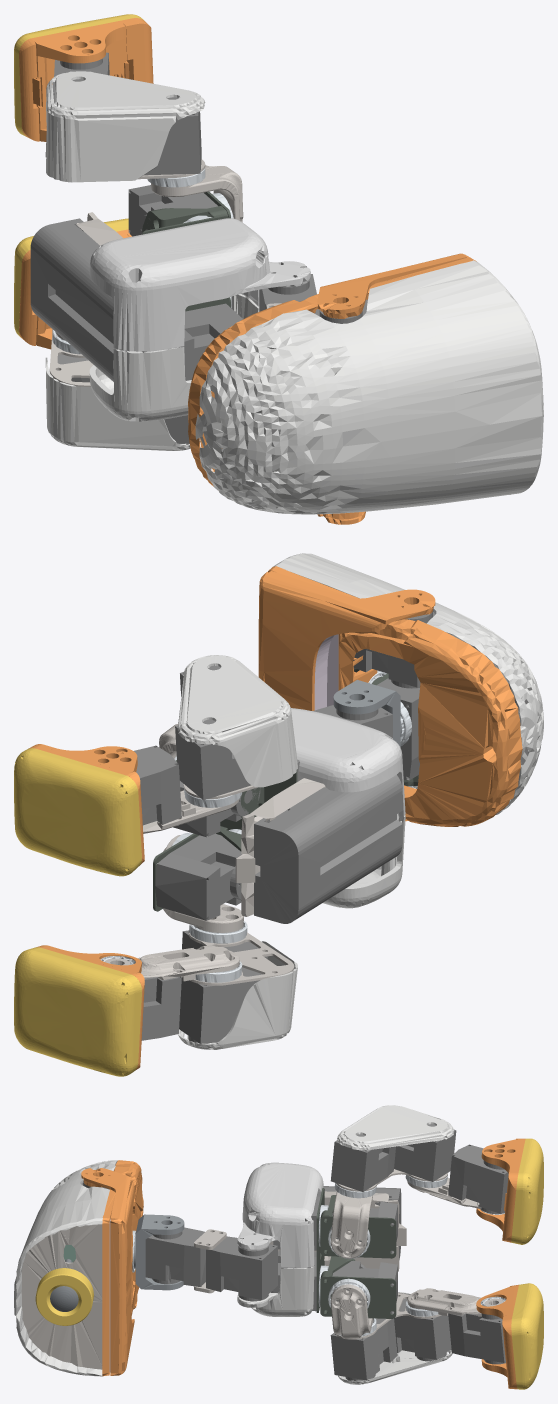
3 renders of one model, top to bottom at view 1: azimuth 30°, elevation 25°; view 2: azimuth 150°, elevation 25°; view 3: azimuth 270°, elevation 25°, orthographic. The views are drawn at different scales.
Visible parts, largest first — view 1: /Asset/jaw_soft/visual_5, /Asset/trunk_base/visual_8, /Asset/upper_leg_left/visual_0, /Asset/trunk_base/visual_6, /Asset/trunk_base/visual_1, /Asset/upper_leg_right/visual_3, /Asset/ankle_left/visual_1, /Asset/ankle_left/visual_3, /Asset/jaw_soft/visual_12, /Asset/jaw_soft/visual_11, /Asset/upper_leg_left/visual_4, /Asset/trunk_base/visual_7 (+11 smaller); view 2: /Asset/jaw_soft/visual_12, /Asset/trunk_base/visual_6, /Asset/ankle_right/visual_1, /Asset/ankle_left/visual_0, /Asset/jaw_soft/visual_11, /Asset/upper_leg_left/visual_0, /Asset/jaw_soft/visual_5, /Asset/trunk_base/visual_8, /Asset/bearing_roll/visual_1, /Asset/upper_leg_right/visual_3, /Asset/upper_leg_right/visual_0, /Asset/upper_leg_left/visual_1 (+20 smaller); view 3: /Asset/jaw_soft/visual_1, /Asset/trunk_base/visual_8, /Asset/jaw_soft/visual_5, /Asset/jaw_soft/visual_11, /Asset/upper_leg_left/visual_0, /Asset/neck/visual_1, /Asset/neck/visual_2, /Asset/leg/visual_1, /Asset/ankle_right/visual_1, /Asset/upper_leg_right/visual_4, /Asset/jaw_soft/visual_12, /Asset/ankle_left/visual_0 (+27 smaller).
Part boxes in pixels (left/top/right/bottom): /Asset/jaw_soft/visual_5: left=195, top=260, right=543, bottom=514; /Asset/trunk_base/visual_8: left=89, top=218, right=310, bottom=352; /Asset/upper_leg_left/visual_0: left=45, top=71, right=205, bottom=182; /Asset/trunk_base/visual_6: left=30, top=218, right=113, bottom=381; /Asset/trunk_base/visual_1: left=89, top=294, right=259, bottom=421; /Asset/upper_leg_right/visual_3: left=45, top=357, right=200, bottom=450; /Asset/ankle_left/visual_1: left=19, top=18, right=153, bottom=141; /Asset/ankle_left/visual_3: left=34, top=23, right=126, bottom=141; /Asset/jaw_soft/visual_12: left=188, top=257, right=476, bottom=486; /Asset/jaw_soft/visual_11: left=317, top=253, right=470, bottom=524; /Asset/upper_leg_left/visual_4: left=144, top=97, right=201, bottom=175; /Asset/trunk_base/visual_7: left=184, top=303, right=242, bottom=380; /Asset/jaw_soft/visual_12: left=268, top=566, right=522, bottom=826; /Asset/trunk_base/visual_6: left=254, top=774, right=402, bottom=923; /Asset/ankle_right/visual_1: left=14, top=947, right=141, bottom=1076; /Asset/ankle_left/visual_0: left=14, top=748, right=141, bottom=876; /Asset/jaw_soft/visual_11: left=258, top=570, right=435, bottom=821; /Asset/upper_leg_left/visual_0: left=177, top=655, right=297, bottom=787; /Asset/jaw_soft/visual_5: left=273, top=553, right=543, bottom=814; /Asset/trunk_base/visual_8: left=291, top=708, right=405, bottom=820; /Asset/bearing_roll/visual_1: left=155, top=833, right=241, bottom=920; /Asset/upper_leg_right/visual_3: left=178, top=941, right=297, bottom=1049; /Asset/upper_leg_right/visual_0: left=179, top=967, right=262, bottom=1043; /Asset/upper_leg_left/visual_1: left=175, top=719, right=261, bottom=800; /Asset/jaw_soft/visual_1: left=21, top=1224, right=102, bottom=1369; /Asset/trunk_base/visual_8: left=237, top=1162, right=323, bottom=1268; /Asset/jaw_soft/visual_5: left=14, top=1160, right=117, bottom=1376; /Asset/jaw_soft/visual_11: left=81, top=1168, right=134, bottom=1375; /Asset/upper_leg_left/visual_0: left=337, top=1105, right=453, bottom=1150; /Asset/neck/visual_1: left=206, top=1236, right=277, bottom=1301; /Asset/neck/visual_2: left=145, top=1227, right=205, bottom=1286; /Asset/leg/visual_1: left=448, top=1144, right=508, bottom=1214; /Asset/ankle_right/visual_1: left=511, top=1283, right=543, bottom=1389; /Asset/upper_leg_right/visual_4: left=330, top=1318, right=397, bottom=1380; /Asset/jaw_soft/visual_12: left=102, top=1160, right=143, bottom=1376; /Asset/ankle_left/visual_0: left=511, top=1138, right=543, bottom=1244.
Bounding box in the file's own units: 0.1189 × 0.1416 × 0.278.
